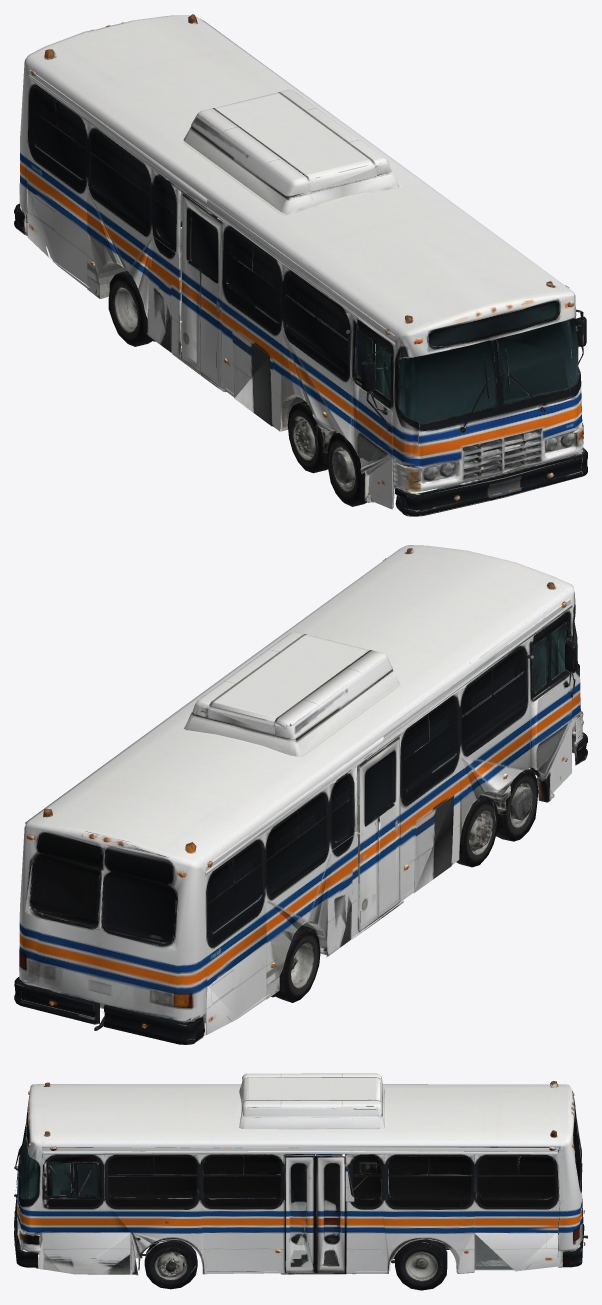
The model's file is bus.glb.
3 views of the same model, one above another, from view 1: azimuth 30°, elevation 25°; view 2: azimuth 150°, elevation 25°; view 3: azimuth 270°, elevation 25° (orthographic). The views are drawn at different scales.
Visible parts, largest first — view 1: Mesh_0; view 2: Mesh_0; view 3: Mesh_0.
Part boxes in pixels (left/top/right/bottom): Mesh_0: left=14, top=14, right=587, bottom=516; Mesh_0: left=14, top=545, right=587, bottom=1044; Mesh_0: left=14, top=1073, right=587, bottom=1290.
Bounding box in the file's own units: 3.66 × 3.99 × 12.
Materials: 1 (1 with a texture image).
